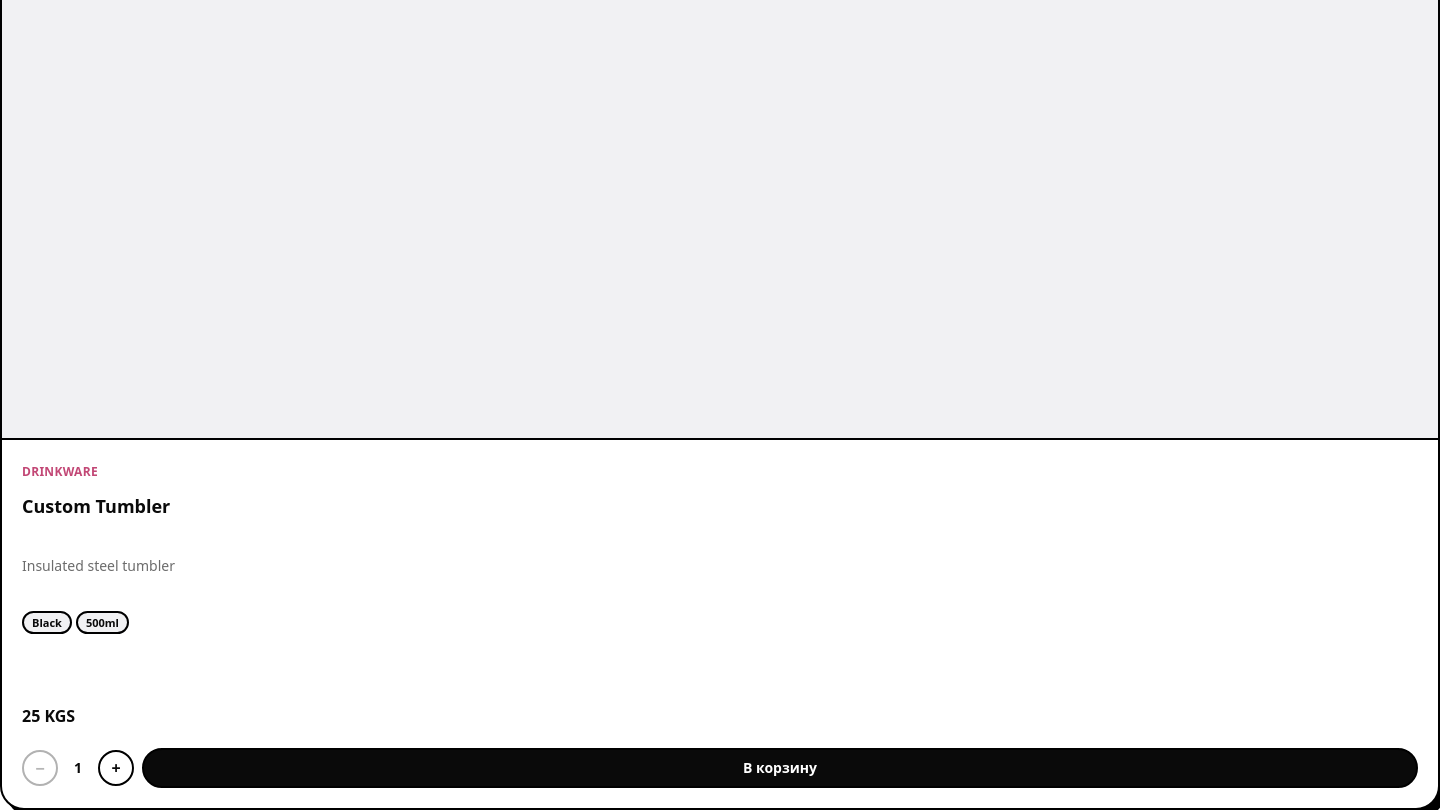
it: ProductCard › stops the stepper at what is left in stock and says when all of it is in the cart
This screenshot has width=1440, height=810.
(page scrolled)
Click the button named "Увеличить количество". click: coordinates (116, 768)
box: x1=98 y1=750 x2=134 y2=786
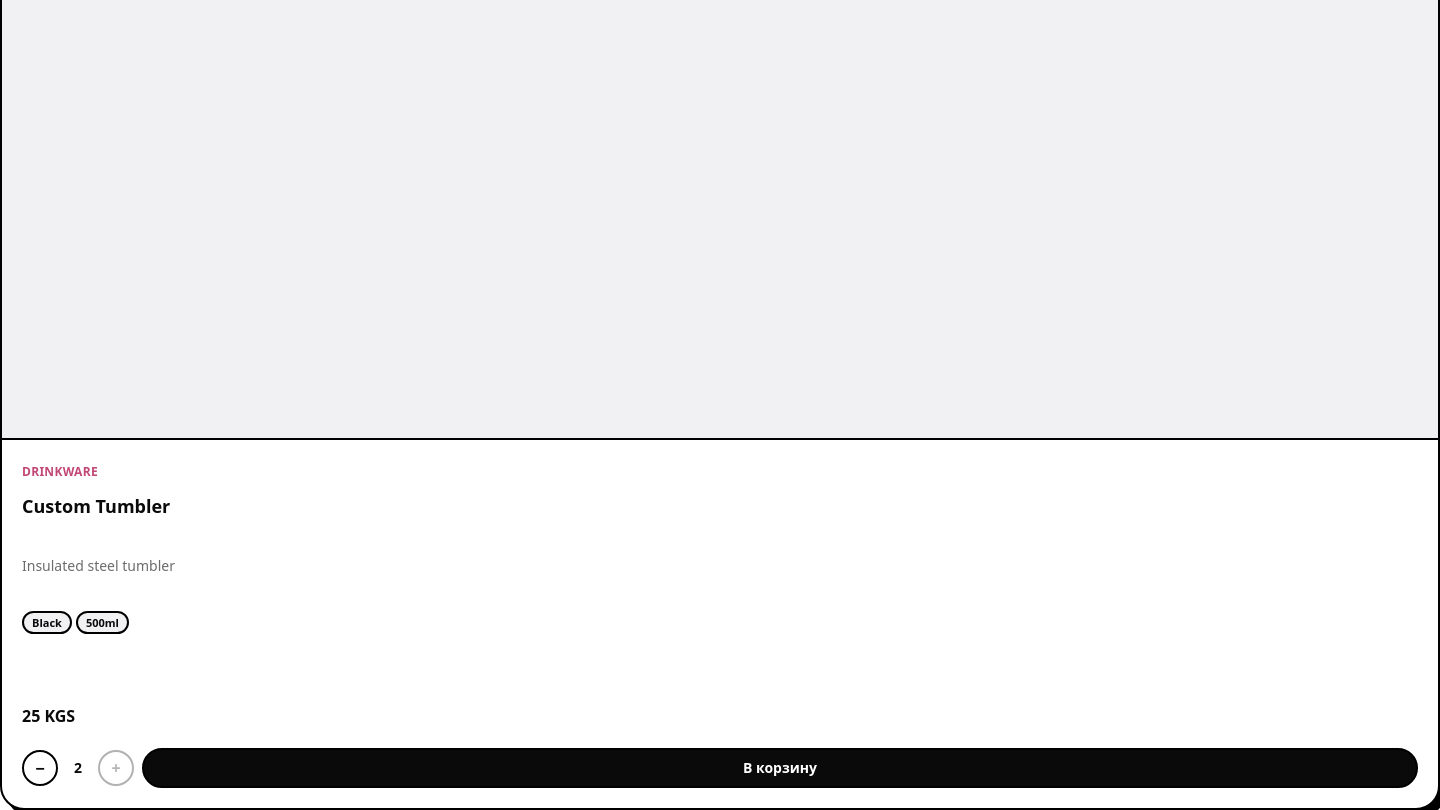
Now the button named "Увеличить количество" is disabled, box x1=98 y1=750 x2=134 y2=786
Click the button "В корзину". click: coordinates (780, 768)
box: x1=142 y1=748 x2=1418 y2=788
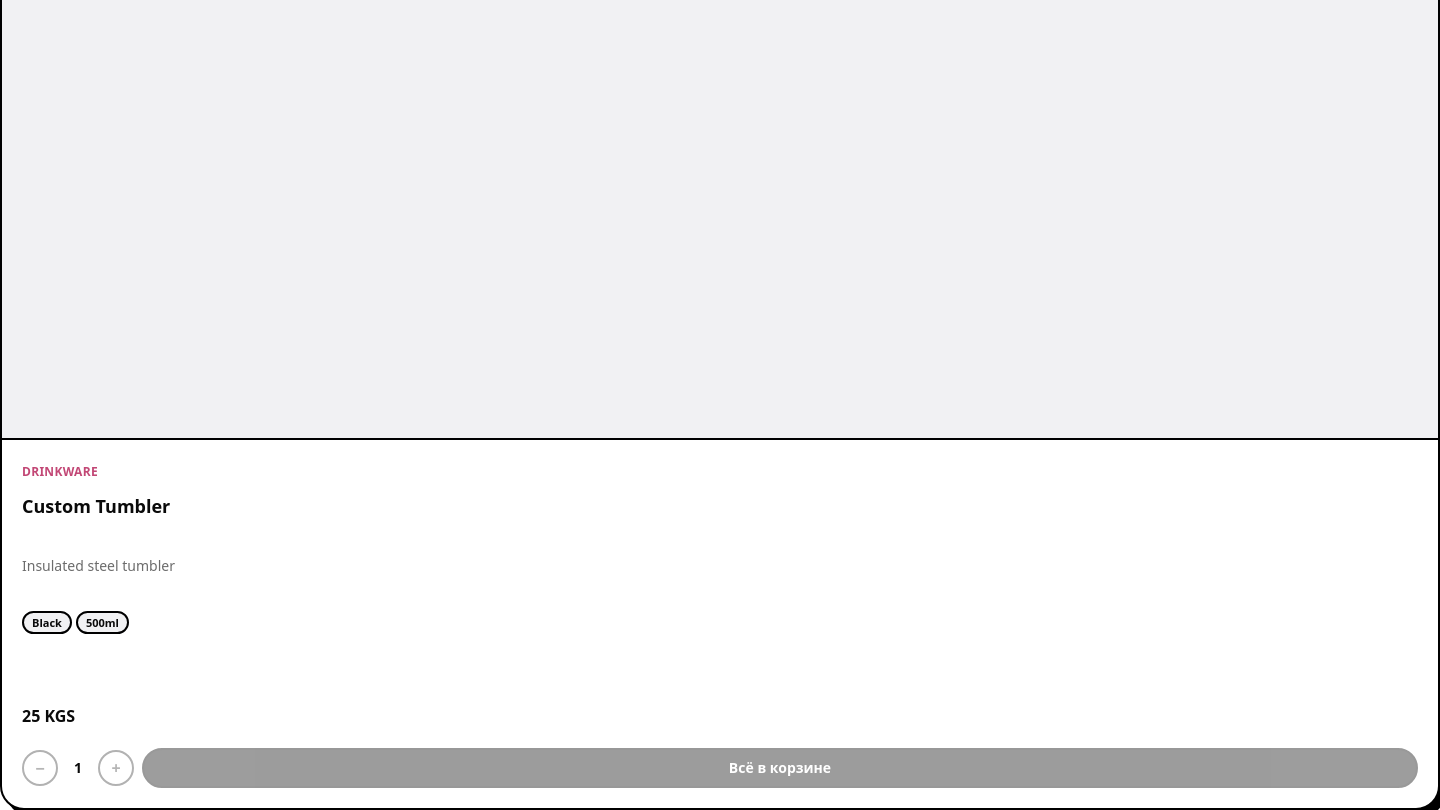
Now the button "Всё в корзине" is disabled, box x1=142 y1=748 x2=1418 y2=788
